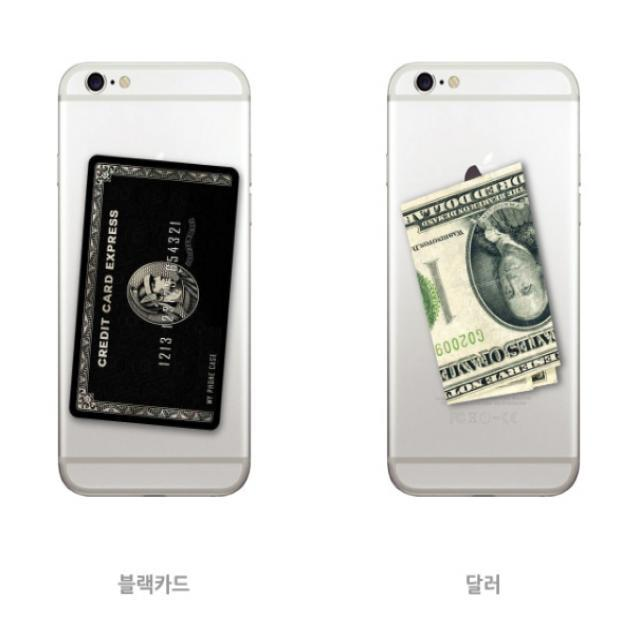phone: (383, 62, 582, 498), (56, 60, 253, 498)
